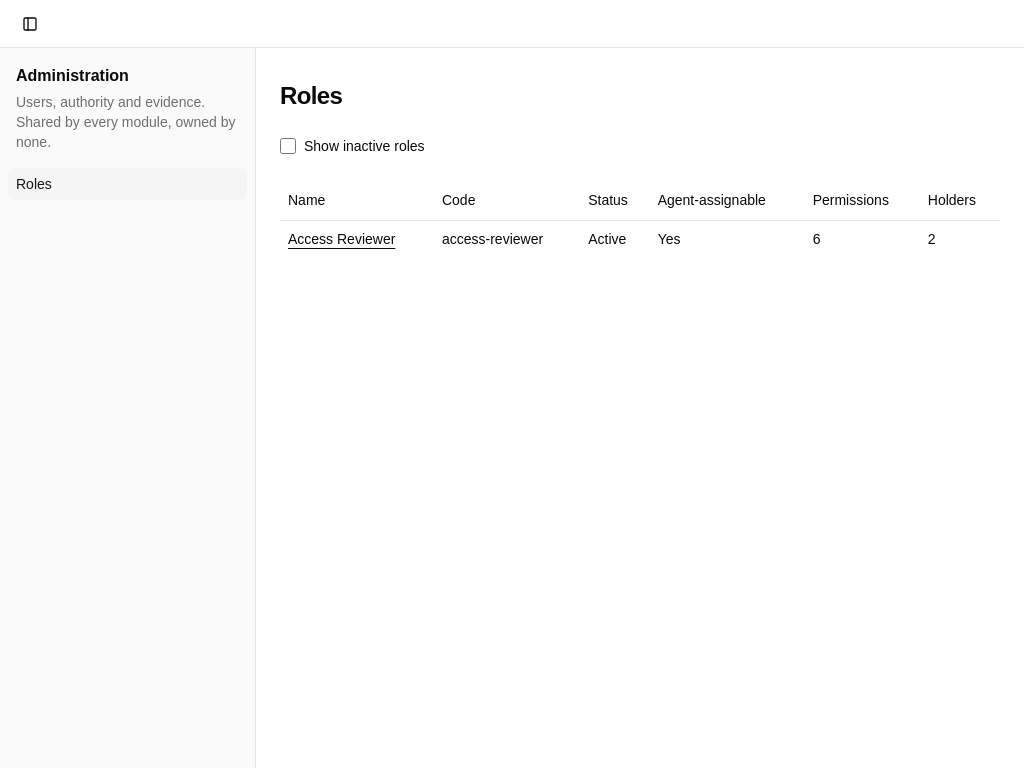
Test: the roles list › reads again with includeInactive when inactive roles are shown, and marks them
Click the checkbox labelled "Show inactive roles" at coordinates (288, 146), box [280,138,296,154]
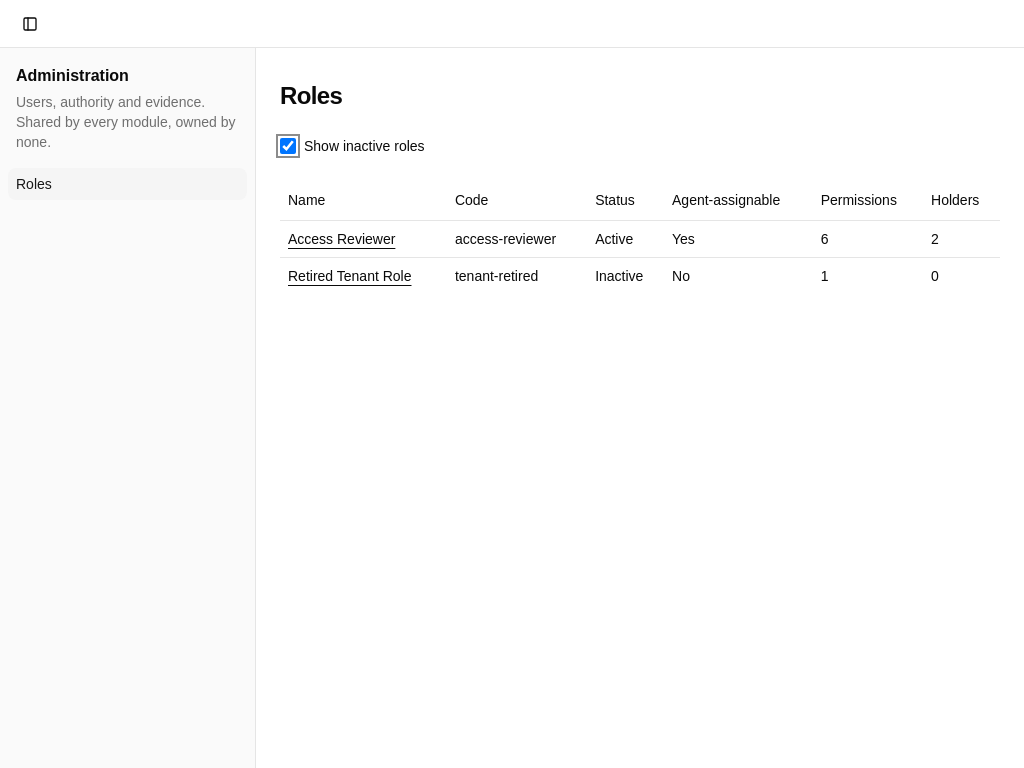
Expected: the text "Inactive" is shown, [587,257,664,294]
Expected: the text "No" is shown, [664,257,813,294]
